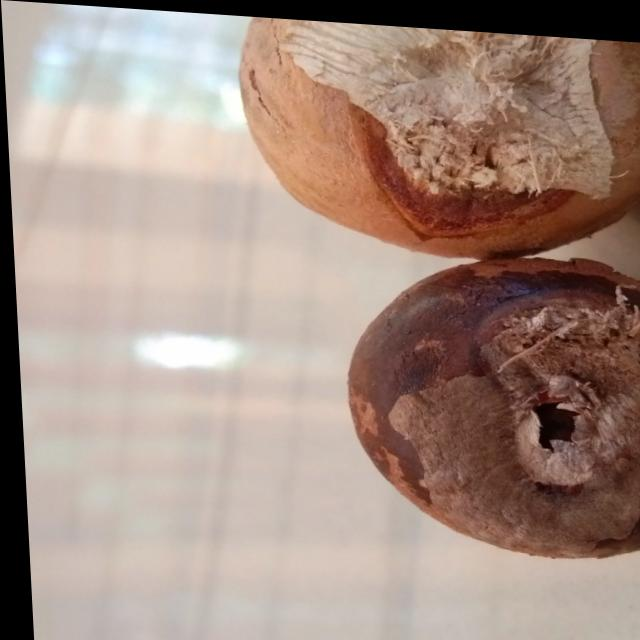karigot: (236, 235, 640, 558)
phatora: (227, 12, 640, 256)
